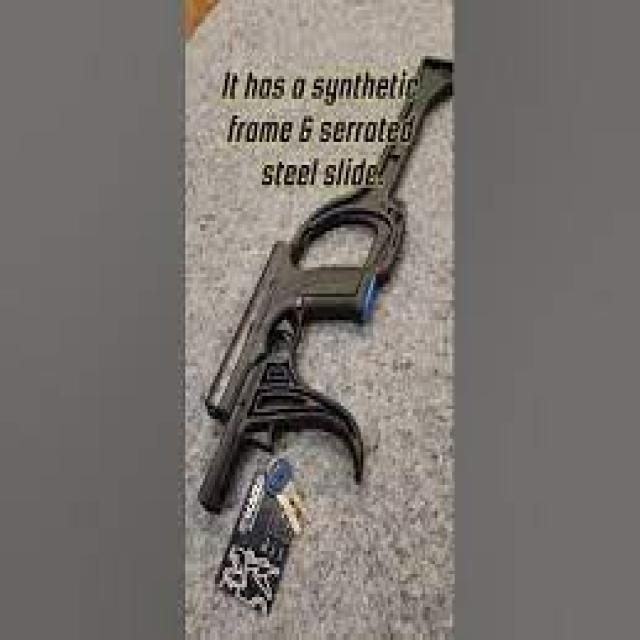Gun: (212, 57, 448, 561)
